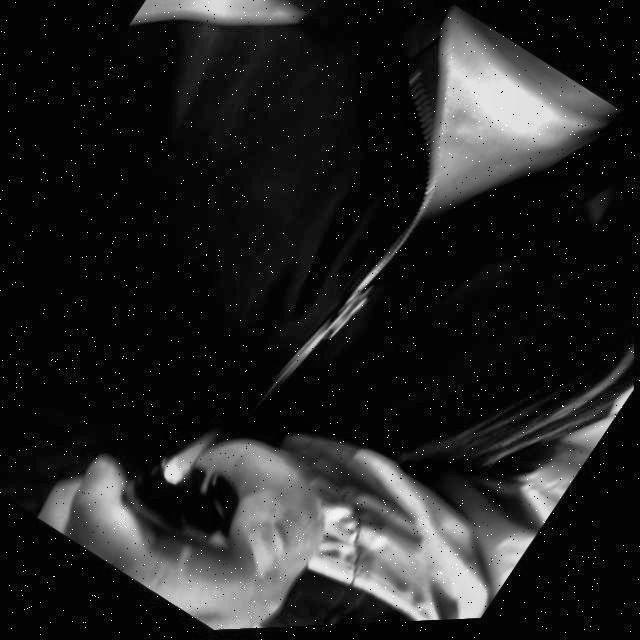Fire: (166, 410, 229, 483)
